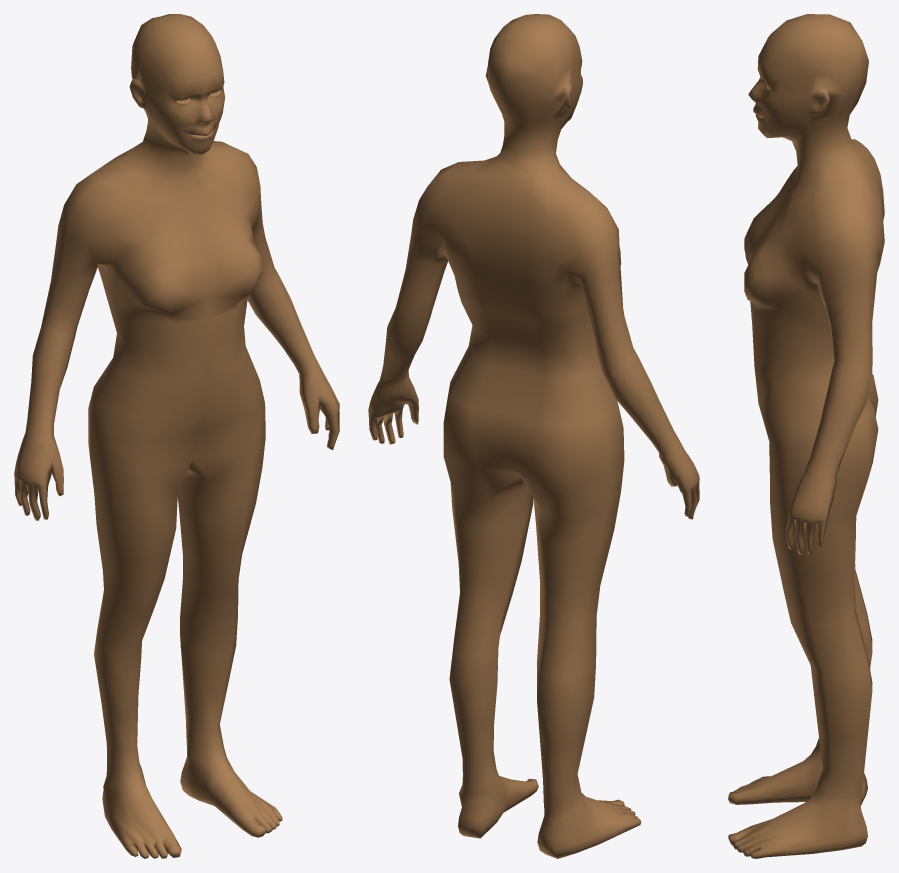
File: female.glb
The picture shows the model from 3 angles, left to right: view 1: azimuth 30°, elevation 25°; view 2: azimuth 150°, elevation 25°; view 3: azimuth 270°, elevation 25°; orthographic projection.
Visible parts, largest first — view 1: Female.002; view 2: Female.002; view 3: Female.002.
Boxes of the visible parts, bbox=[...] form: Female.002: bbox=[14, 14, 339, 858]; Female.002: bbox=[368, 14, 699, 858]; Female.002: bbox=[728, 14, 884, 858].
Size of the model in its own units: 0.6243 by 1.5 by 0.2641.
